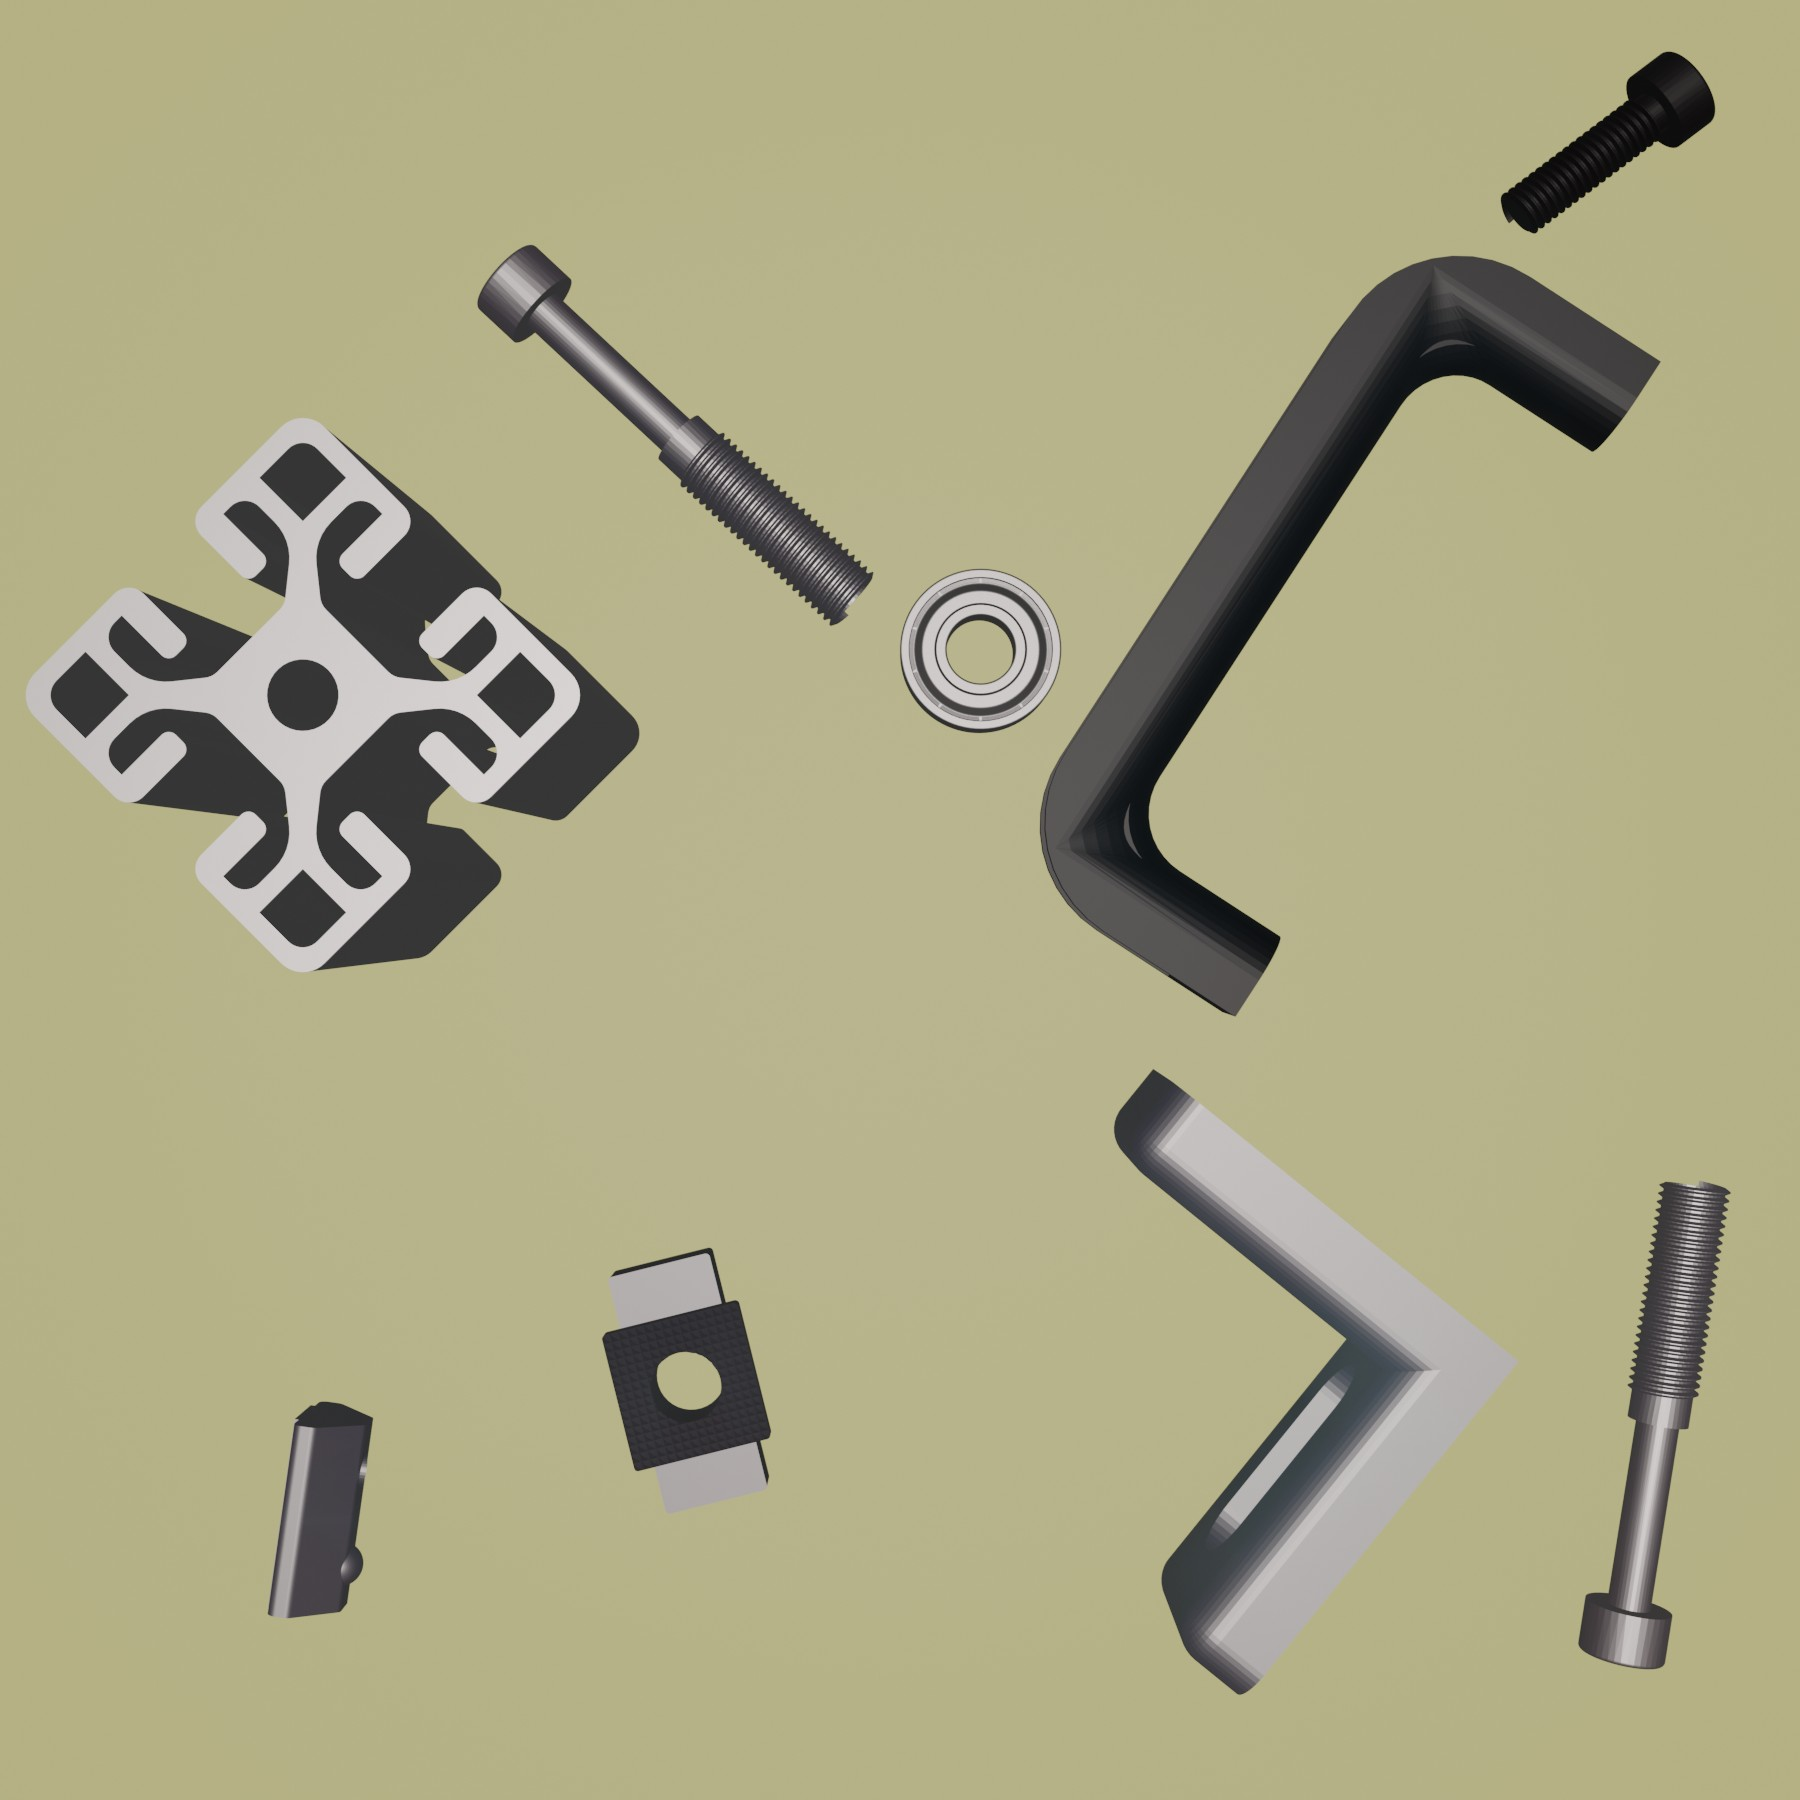Aluminium Extension: (20, 414, 641, 977)
Ball Bearing: (897, 565, 1066, 738)
Multiwinkel: (1111, 1066, 1531, 1699)
Pull Handle: (1038, 251, 1662, 1019)
Shoulder Socket Head Cap Screw: (473, 239, 875, 625), (1576, 1174, 1736, 1673)
Socket Head Cap Screw: (1497, 49, 1719, 237)
T Nut Square: (593, 1241, 778, 1513)
T Spring Nut: (264, 1395, 374, 1620)
